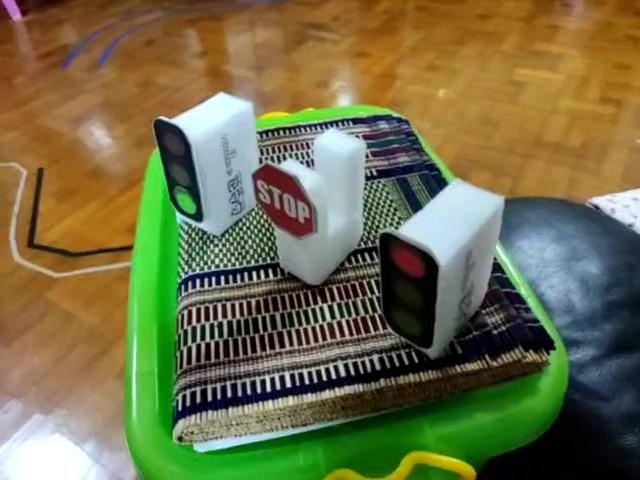Green Traffic Light: (150, 115, 207, 218)
Red Traffic Light: (375, 225, 440, 345)
Stop Sign: (248, 160, 320, 243)
